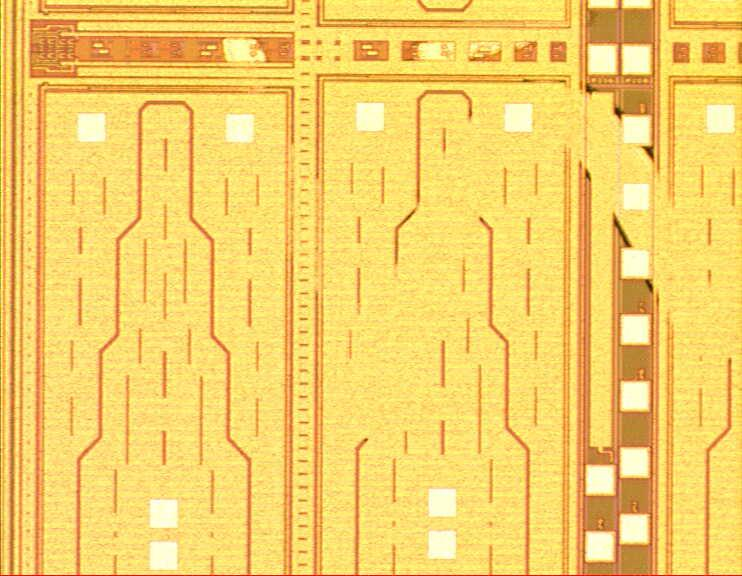BLOCK ETCH: (214, 1, 670, 294)
